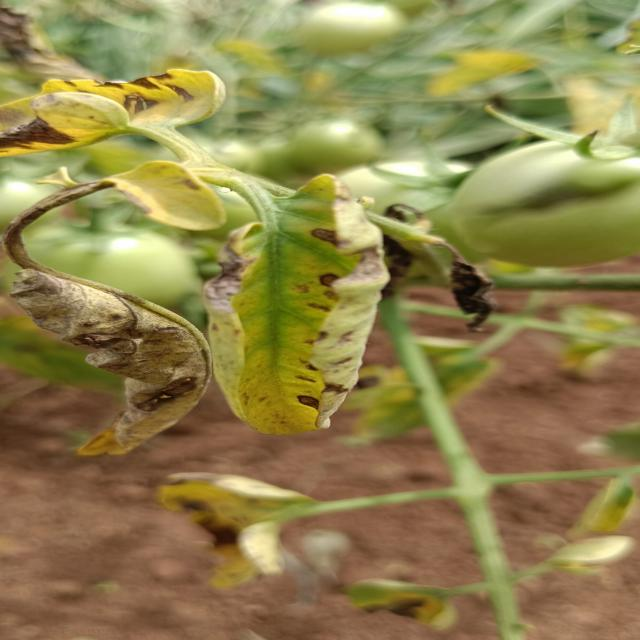tomato_early blight: (192, 170, 384, 438), (0, 264, 213, 452), (0, 68, 234, 150), (175, 469, 311, 595), (95, 160, 239, 232), (0, 92, 137, 160), (353, 574, 475, 628), (426, 46, 540, 94)
